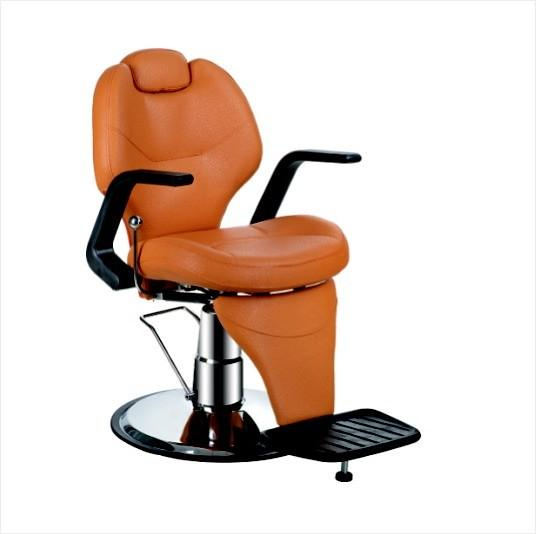chair: (86, 48, 422, 482)
